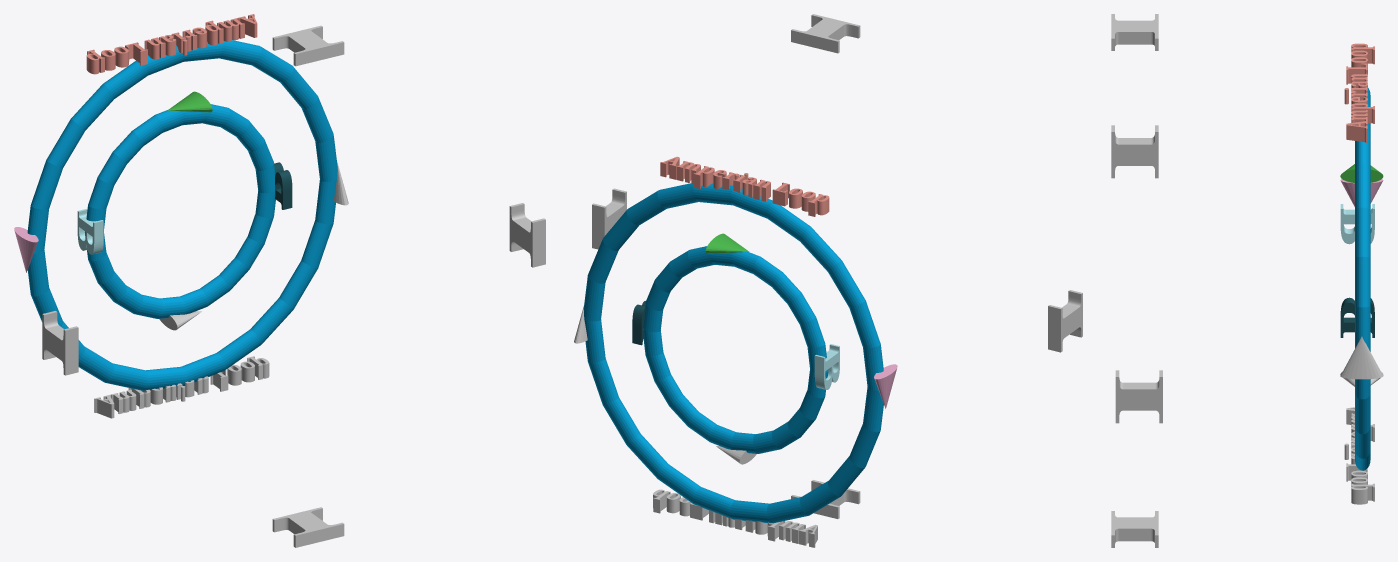
The model's file is tinker.obj.
3 renders of one model, left to right at view 1: azimuth 30°, elevation 25°; view 2: azimuth 150°, elevation 25°; view 3: azimuth 270°, elevation 25°, orthographic. The views are drawn at different scales.
Parts seen in each view (by area): view 1: group_0_40919, group_0_15308428, group_0_16768282, group_0_14789940, group_0_3888547, group_0_6383466, group_0_14900002, group_0_11593967, group_0_1855578; view 2: group_0_40919, group_0_15308428, group_0_16768282, group_0_14789940, group_0_6383466, group_0_14900002, group_0_11593967, group_0_3888547; view 3: group_0_40919, group_0_14789940, group_0_15308428, group_0_14900002, group_0_6383466, group_0_16768282, group_0_3888547, group_0_1855578, group_0_11593967, group_0_15708628, group_0_4634441.
Part boxes in pixels (x1,y1,x2,y2): group_0_40919: (27,40,337,390); group_0_15308428: (86,14,257,74); group_0_16768282: (94,356,269,418); group_0_14789940: (272,25,348,205); group_0_3888547: (272,507,344,547); group_0_6383466: (42,311,78,375); group_0_14900002: (509,203,545,267); group_0_11593967: (77,209,103,254); group_0_1855578: (274,162,292,209); group_0_40919: (583,183,883,523); group_0_15308428: (660,156,829,216); group_0_16768282: (653,489,817,547); group_0_14789940: (574,14,860,343); group_0_6383466: (1048,290,1082,352); group_0_14900002: (592,188,626,249); group_0_11593967: (814,344,839,389); group_0_3888547: (791,480,860,518); group_0_40919: (1355,88,1370,470); group_0_14789940: (1111,14,1383,379); group_0_15308428: (1344,43,1374,142); group_0_14900002: (1115,370,1162,423); group_0_6383466: (1111,125,1158,178); group_0_16768282: (1344,407,1374,504); group_0_3888547: (1111,511,1158,547); group_0_1855578: (1340,297,1374,337); group_0_11593967: (1340,204,1374,244); group_0_15708628: (1340,179,1383,206); group_0_4634441: (1340,164,1383,182).
Bounding box in the file's own units: 133 × 130 × 62.91.
